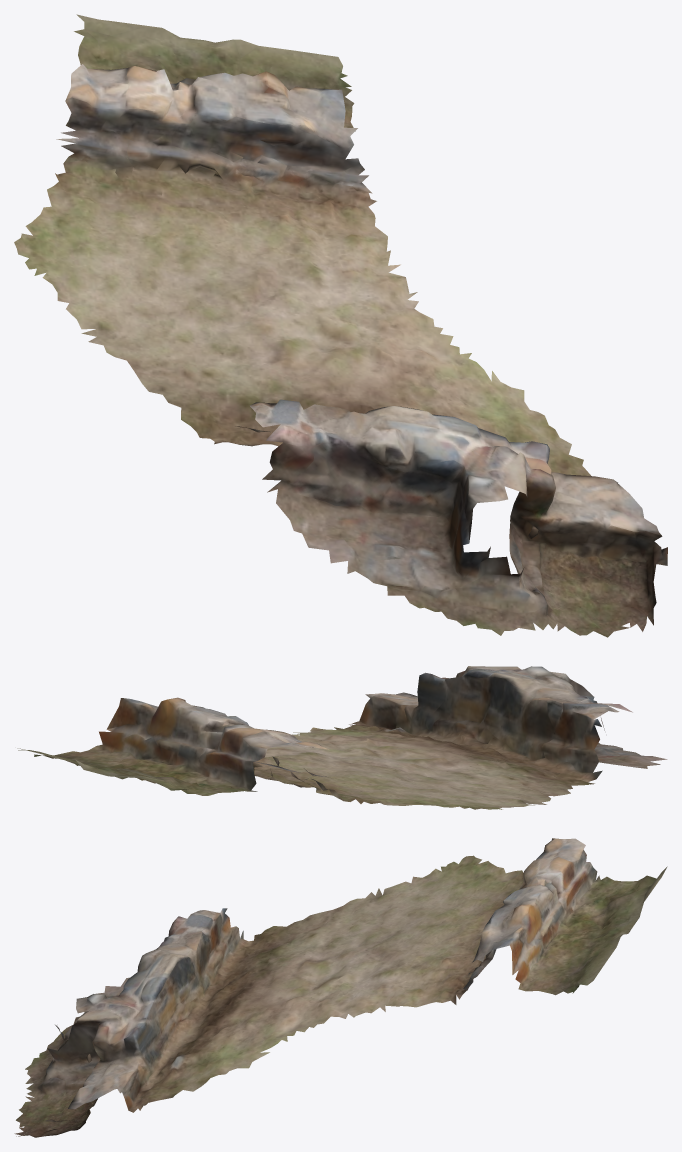
File: cpuzzle500_3.glb
3 renders of one model, top to bottom at view 1: azimuth 30°, elevation 25°; view 2: azimuth 150°, elevation 25°; view 3: azimuth 270°, elevation 25°, orthographic. The views are drawn at different scales.
Parts seen in each view (by area): view 1: Mesh_0.004; view 2: Mesh_0.004; view 3: Mesh_0.004.
Boxes of the visible parts, box(x1,y1,x2,y2) form: Mesh_0.004: box(14, 14, 667, 637); Mesh_0.004: box(17, 666, 667, 809); Mesh_0.004: box(14, 838, 667, 1137).
Bounding box in the file's own units: 8.59 × 6.37 × 16.37.
1 material, 1 textured.
